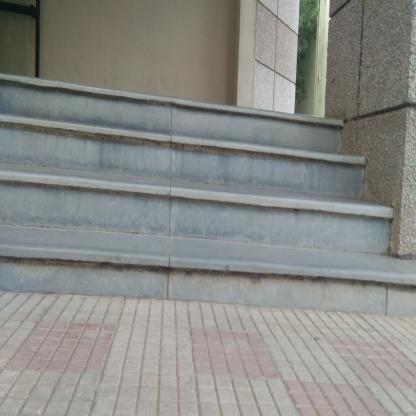stairs: (7, 110, 339, 314)
